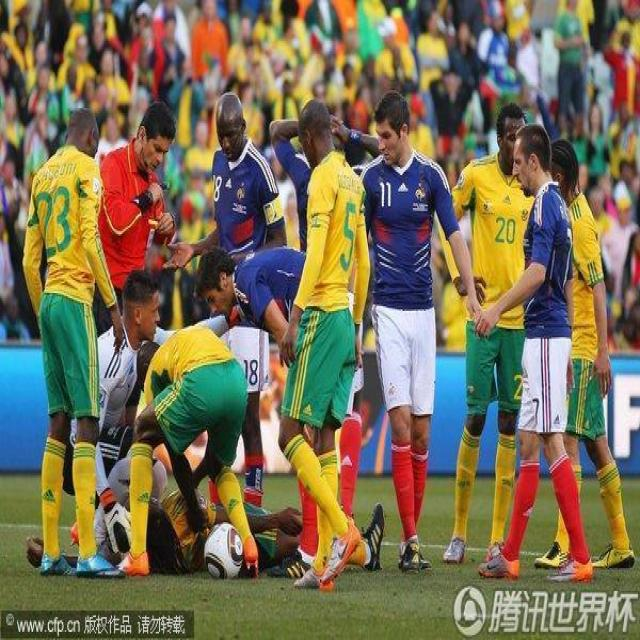10-: (0, 0, 638, 589)
down: (120, 449, 394, 581)
